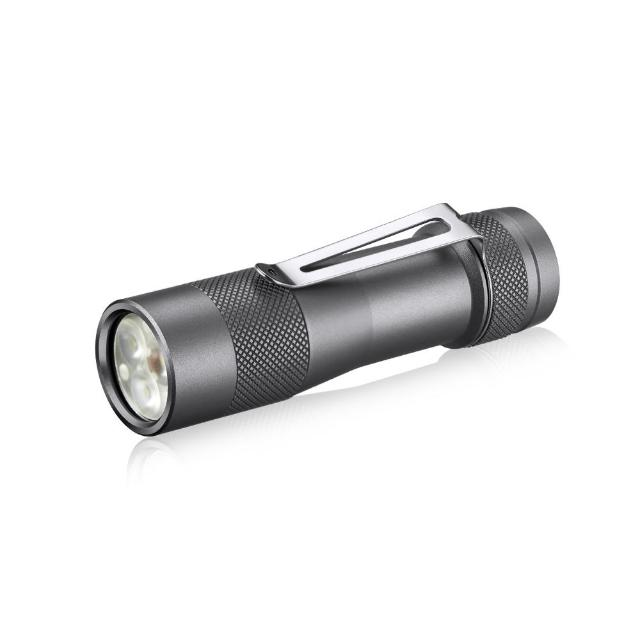Flashlight: (87, 190, 567, 446)
